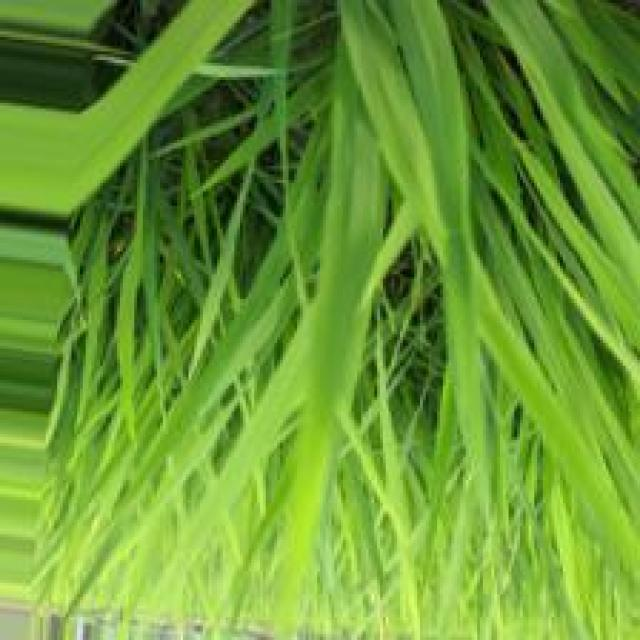HealthyLeaf: (347, 28, 422, 167), (398, 3, 463, 140), (324, 187, 383, 333), (523, 385, 594, 472)
